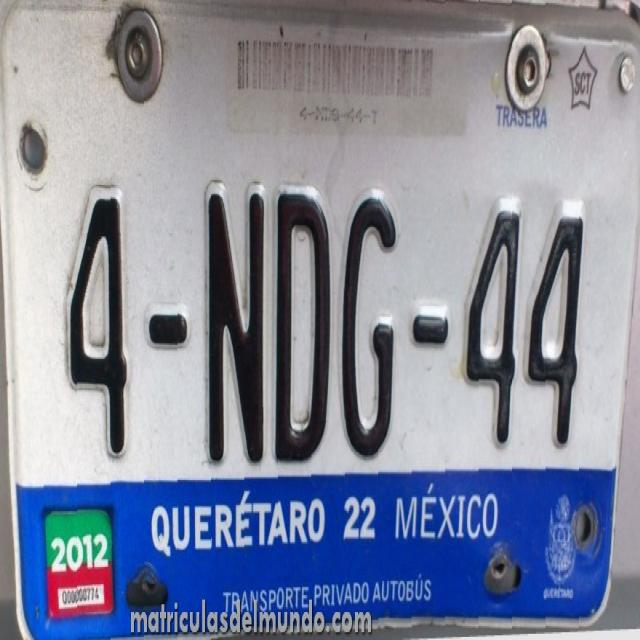placa: (21, 156, 614, 458)
